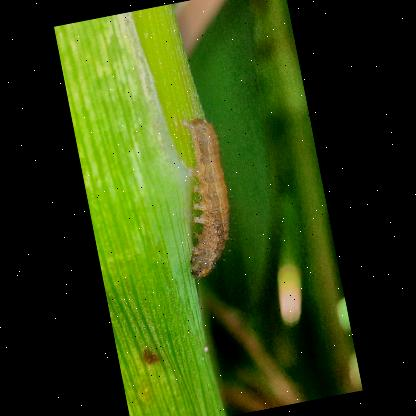Fall Armyworm Larvae: (159, 108, 254, 294)
